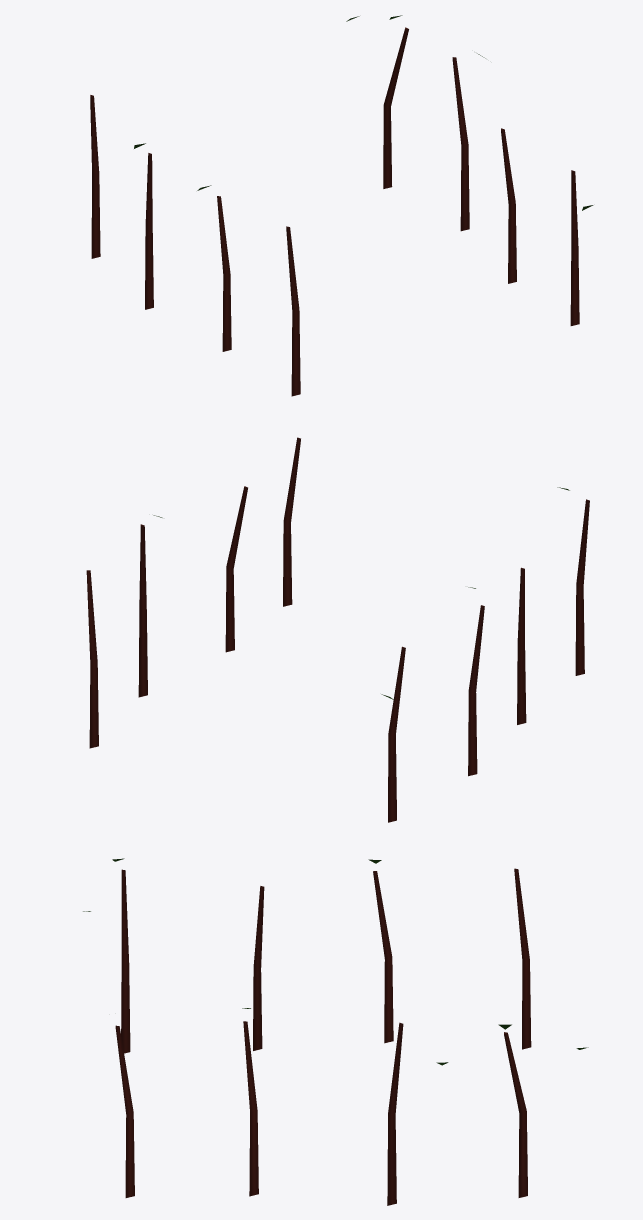
File: fm_cassava_2_lod1.glb
The picture shows the model from 3 angles, top to bottom: view 1: azimuth 30°, elevation 25°; view 2: azimuth 150°, elevation 25°; view 3: azimuth 270°, elevation 25°; orthographic projection. The views are drawn at different scales.
Parts seen in each view (by area): view 1: fm_cassava_2_lod1; view 2: fm_cassava_2_lod1; view 3: fm_cassava_2_lod1.
Part boxes in pixels (x1,y1,x2,y2): fm_cassava_2_lod1: (90, 15, 593, 396); fm_cassava_2_lod1: (86, 437, 589, 822); fm_cassava_2_lod1: (83, 858, 588, 1205).
Size of the model in its own units: 3.07 by 1.14 by 3.43.
